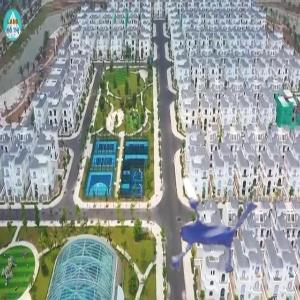drone: (136, 148, 283, 295)
